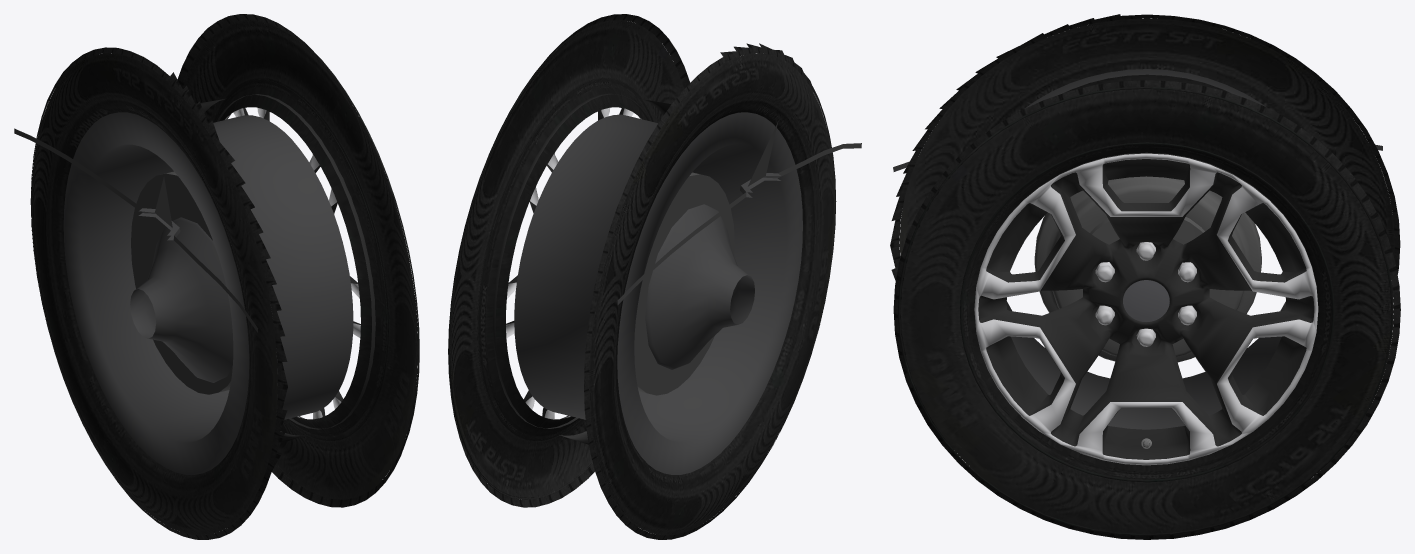
The model's file is hilux_wheelLR.glb.
3 renders of one model, left to right at view 1: azimuth 30°, elevation 25°; view 2: azimuth 150°, elevation 25°; view 3: azimuth 270°, elevation 25°, orthographic.
Parts seen in each view (by area): view 1: hilux_wheelLR; view 2: hilux_wheelLR; view 3: hilux_wheelLR.
Boxes of the visible parts, x1,y1,x2,y2 form: hilux_wheelLR: [14, 14, 419, 539]; hilux_wheelLR: [448, 14, 861, 539]; hilux_wheelLR: [890, 14, 1400, 539].
Bounding box in the file's own units: 0.284 × 0.7169 × 0.7192.
Materials: 11 (2 with a texture image).
